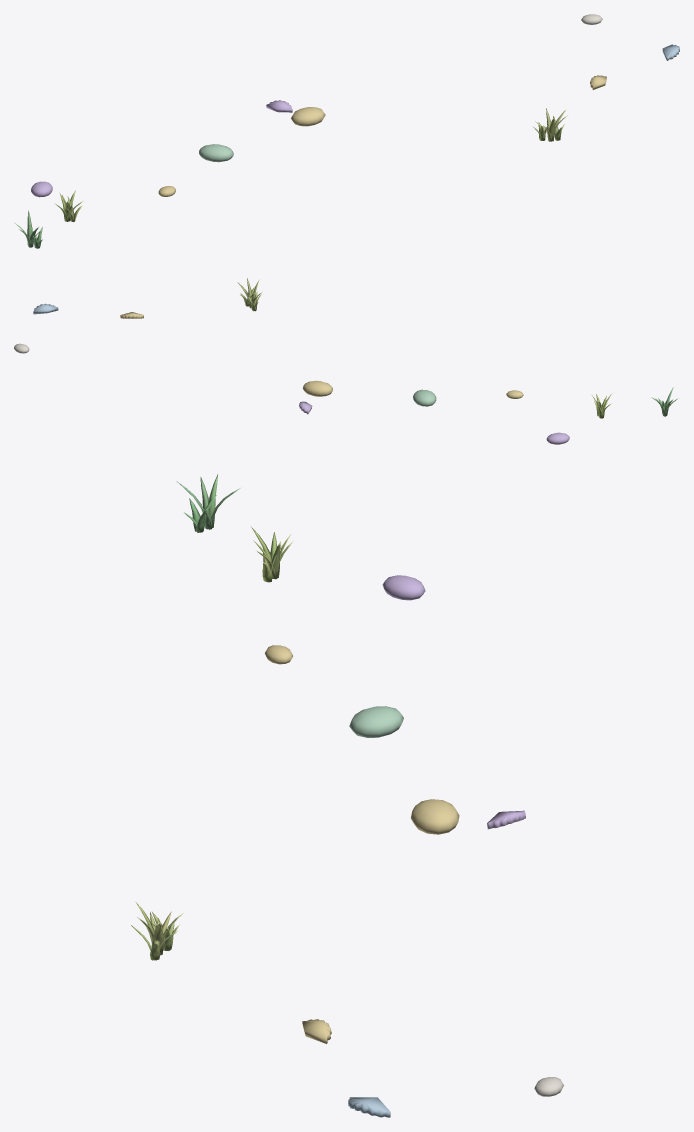
File: W2_FloraRing_9_11.fbx
3 renders of one model, top to bottom at view 1: azimuth 30°, elevation 25°; view 2: azimuth 150°, elevation 25°; view 3: azimuth 270°, elevation 25°, orthographic. The views are drawn at different scales.
Visible parts, largest first — view 1: W2_FloraRing_9_11; view 2: W2_FloraRing_9_11; view 3: W2_FloraRing_9_11.
Boxes of the visible parts, left/top/right/bottom form: W2_FloraRing_9_11: left=15, top=14, right=679, bottom=248; W2_FloraRing_9_11: left=14, top=278, right=678, bottom=444; W2_FloraRing_9_11: left=131, top=474, right=563, bottom=1117.
Size of the model in its own units: 3.27 by 0.1766 by 1.02.
